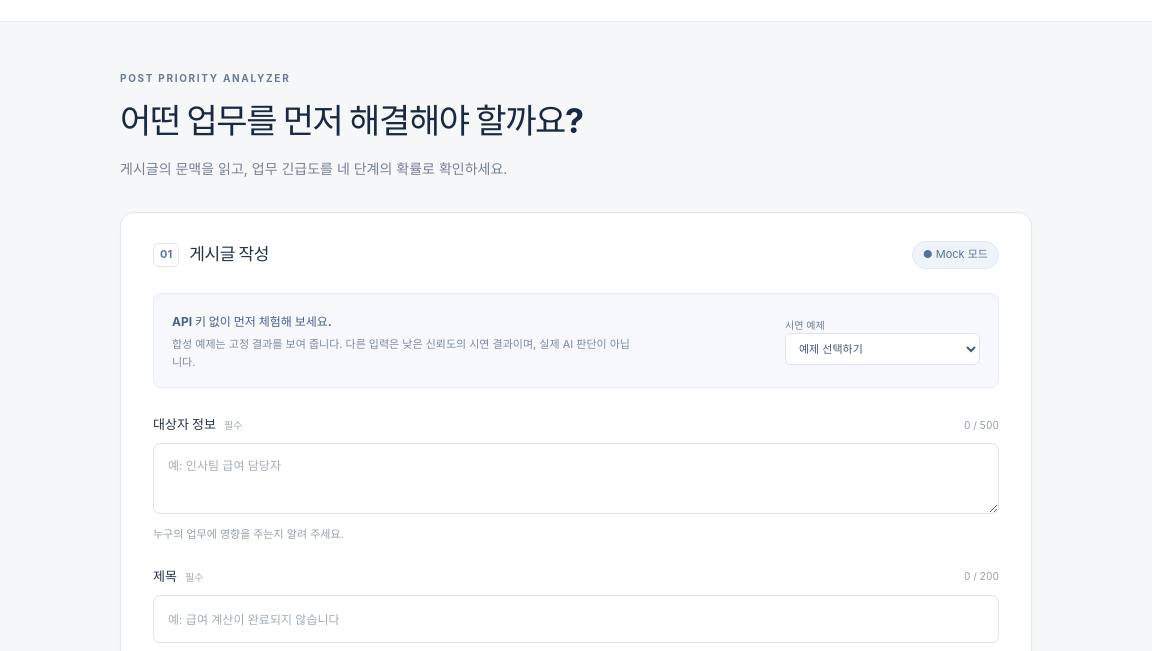
it: handles malformed successful responses
Expected: the text "● Mock 모드" is shown, left=912, top=241, right=999, bottom=269
Select "급여 마감 중단" in the dropdown labelled "시연 예제" at point(882, 349), box left=785, top=333, right=980, bottom=365
(page scrolled)
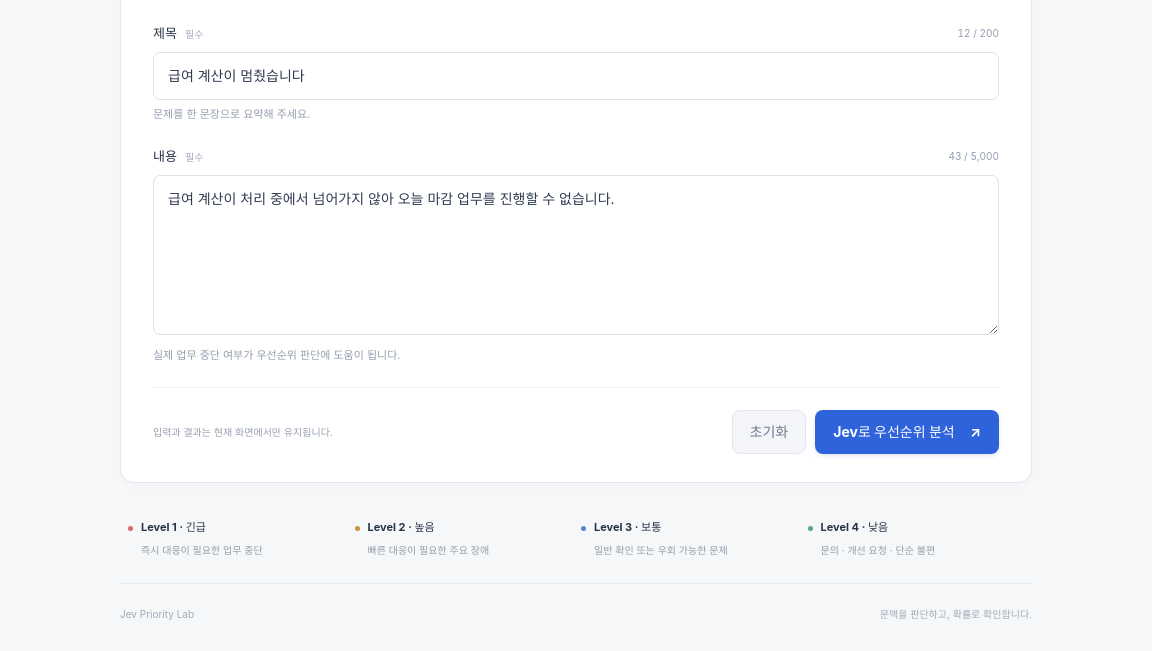
Click the button "Jev로 우선순위 분석 ↗" at point(907, 432), box left=815, top=410, right=999, bottom=454
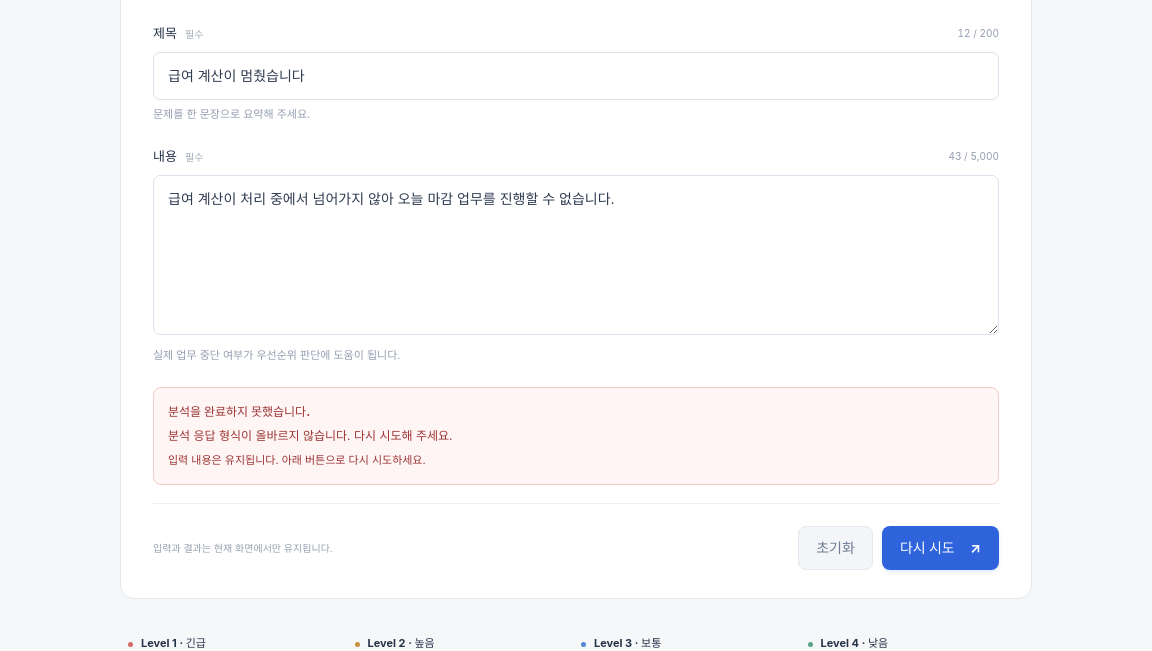
Expected: the message shows "분석 응답 형식이 올바르지 않습니다", left=168, top=428, right=452, bottom=443
